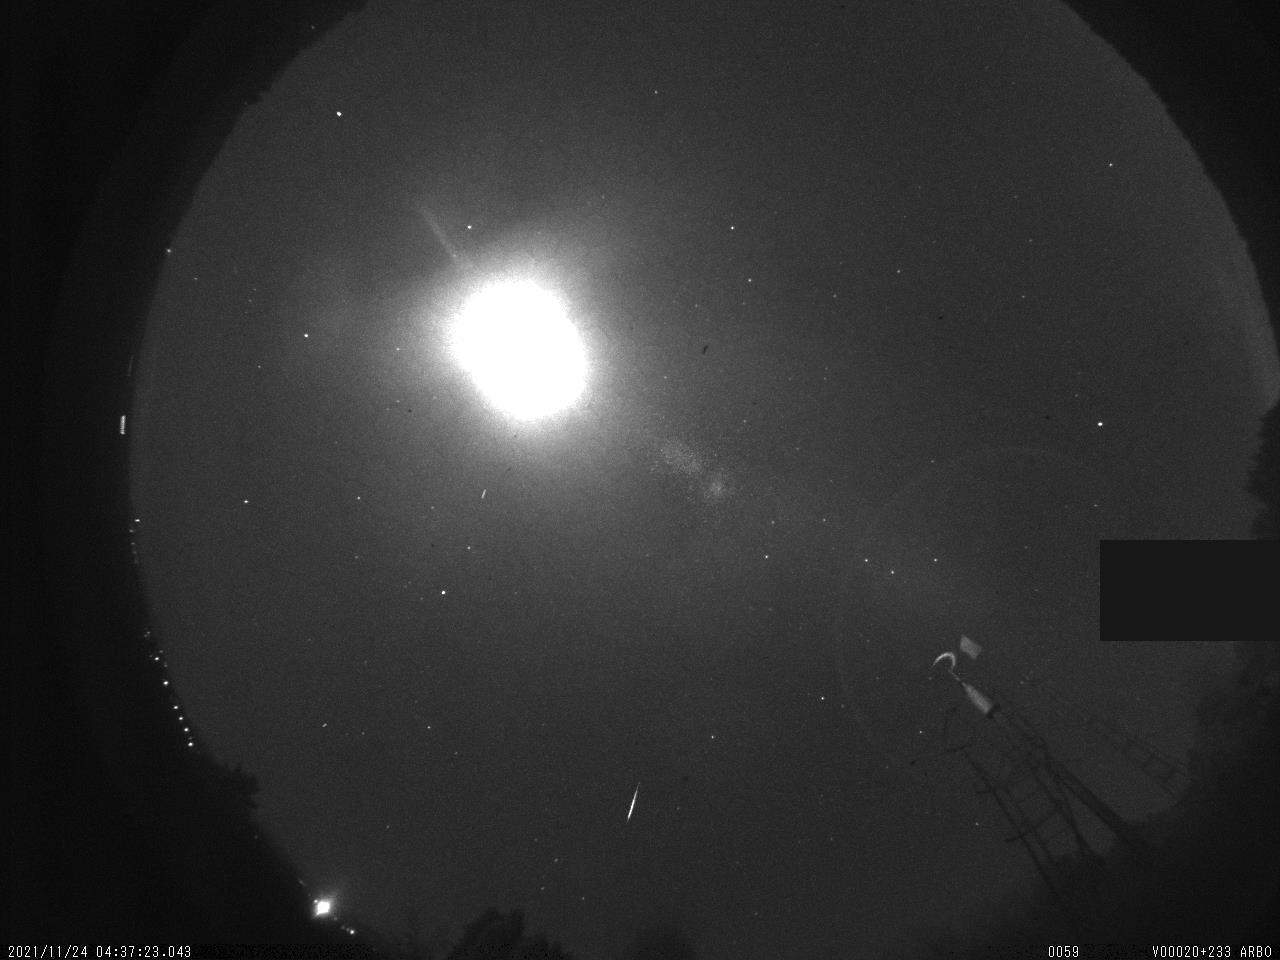meteor: (619, 768, 654, 828)
